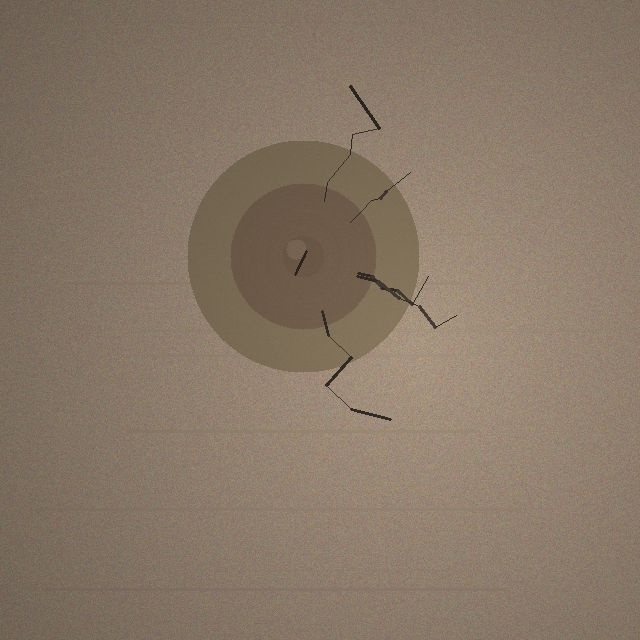crack: (187, 140, 419, 372)
